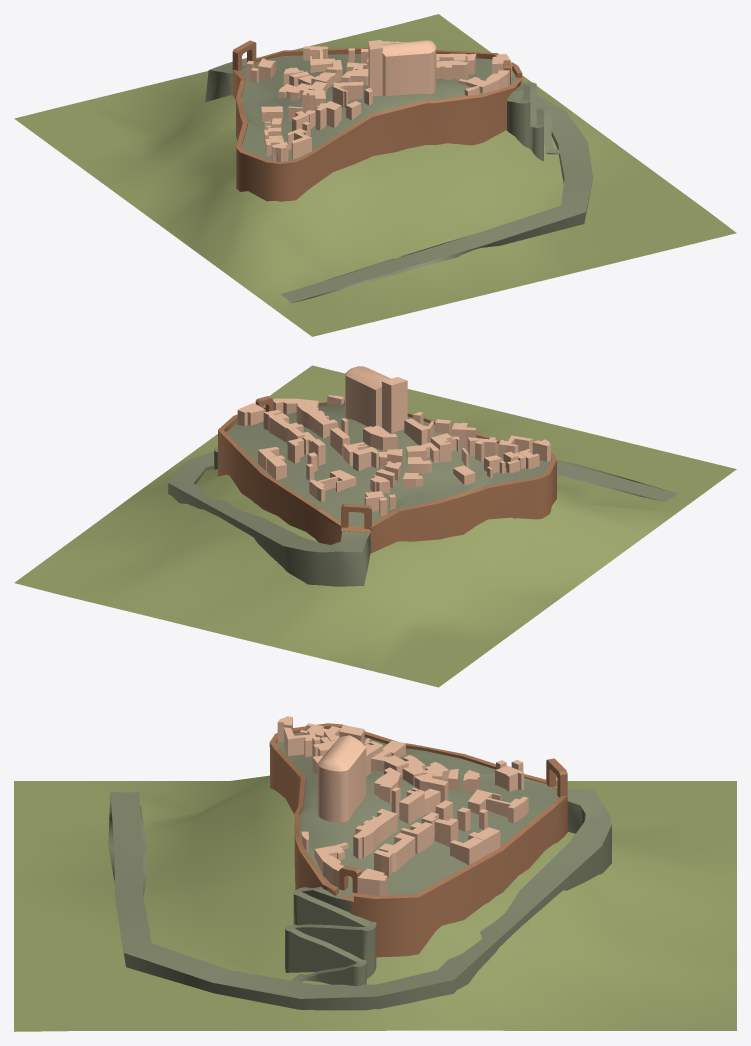
The model's file is ville_v20 1.fbx.
3 views of the same model, one above another, from view 1: azimuth 30°, elevation 25°; view 2: azimuth 150°, elevation 25°; view 3: azimuth 270°, elevation 25° (orthographic). The views are drawn at different scales.
Visible parts, largest first — view 1: Ville; view 2: Ville; view 3: Ville.
Part boxes in pixels (x1,y1,x2,y2): Ville: (14,14,736,336); Ville: (14,365,736,687); Ville: (14,716,736,1031).
Bounding box in the file's own units: 986 × 315 × 1200.
